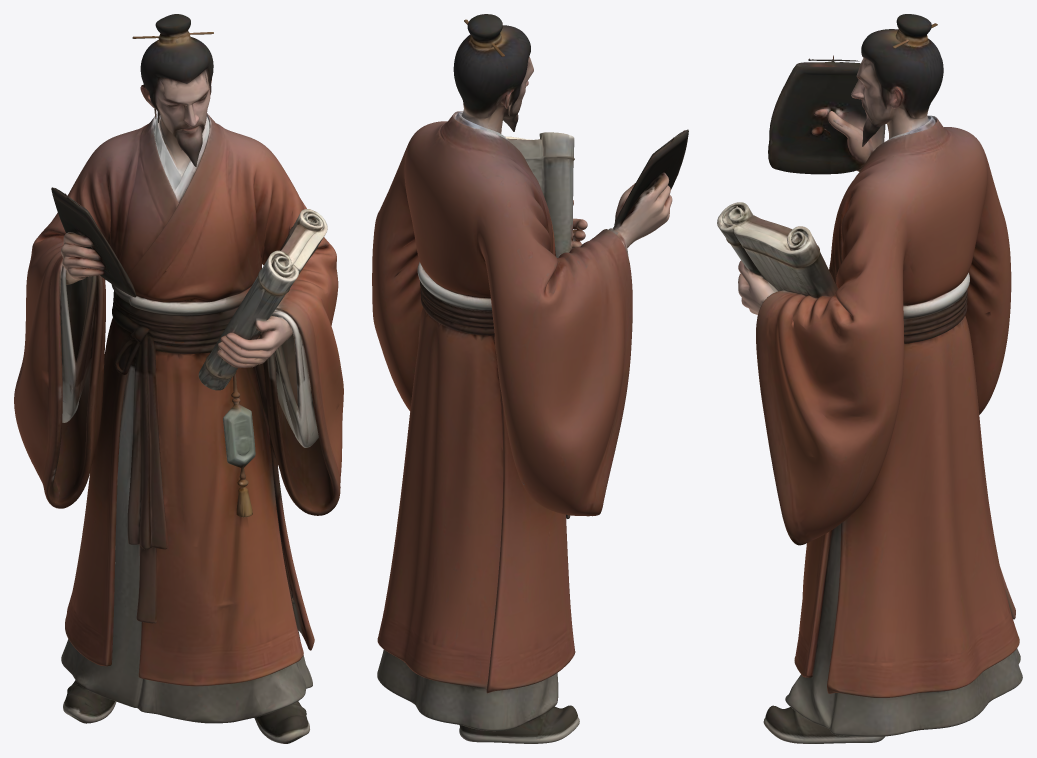
Rendered from np_yan.glb.
The picture shows the model from 3 angles, left to right: view 1: azimuth 30°, elevation 25°; view 2: azimuth 150°, elevation 25°; view 3: azimuth 270°, elevation 25°; orthographic projection.
Visible parts, largest first — view 1: node_0; view 2: node_0; view 3: node_0.
Boxes of the visible parts, left/top/right/bottom form: node_0: left=14, top=14, right=343, bottom=743; node_0: left=372, top=14, right=688, bottom=743; node_0: left=717, top=14, right=1022, bottom=743.
Bounding box in the file's own units: 0.4892 × 1.14 × 0.4572.
1 material, 1 textured.
